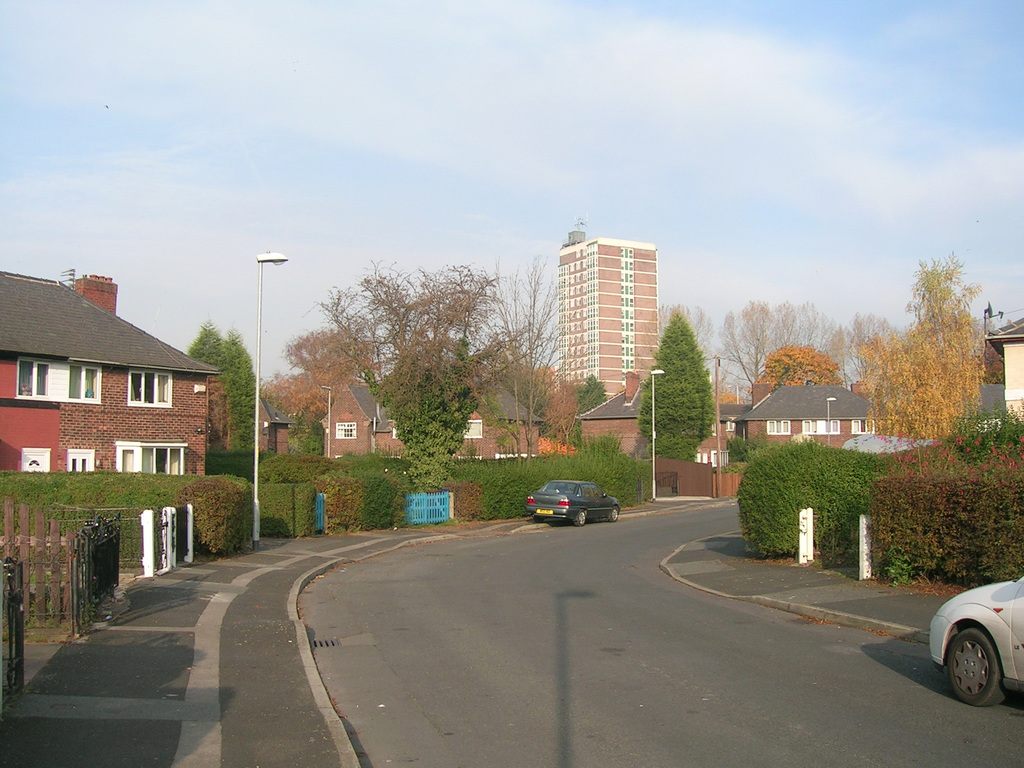Car: (927, 572, 1023, 707), (528, 480, 618, 524)
